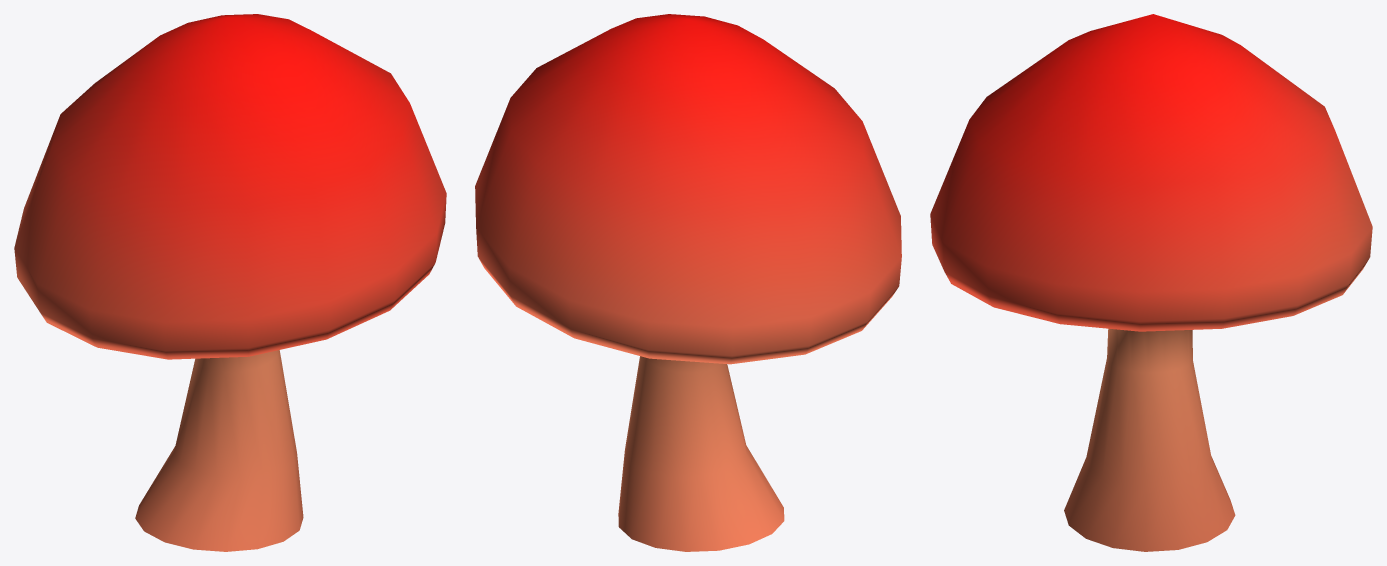
The model's file is mushroom_07.fbx.
The picture shows the model from 3 angles, left to right: view 1: azimuth 30°, elevation 25°; view 2: azimuth 150°, elevation 25°; view 3: azimuth 270°, elevation 25°; orthographic projection.
Parts seen in each view (by area): view 1: mushroom; view 2: mushroom; view 3: mushroom.
Boxes of the visible parts, x1,y1,x2,y2 form: mushroom: (14,14,446,551); mushroom: (475,14,901,551); mushroom: (930,14,1372,551).
Bounding box in the file's own units: 33.96 × 43.2 × 34.16.
